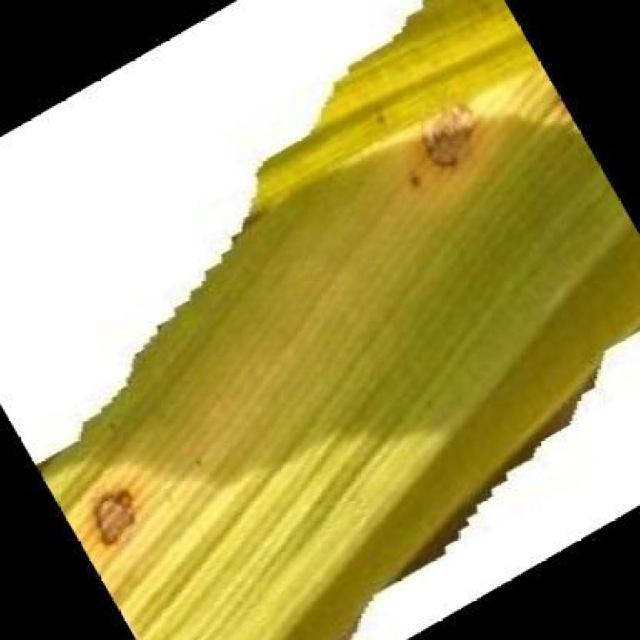Bacterial_Leaf_Blight: (61, 458, 165, 567)
